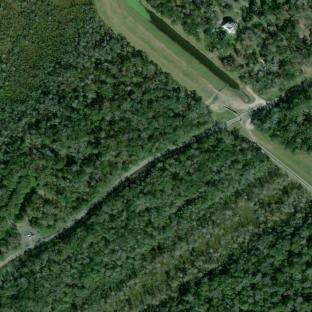Floresta: (0, 130, 312, 312), (0, 0, 211, 254), (152, 0, 312, 89), (253, 88, 312, 154)
